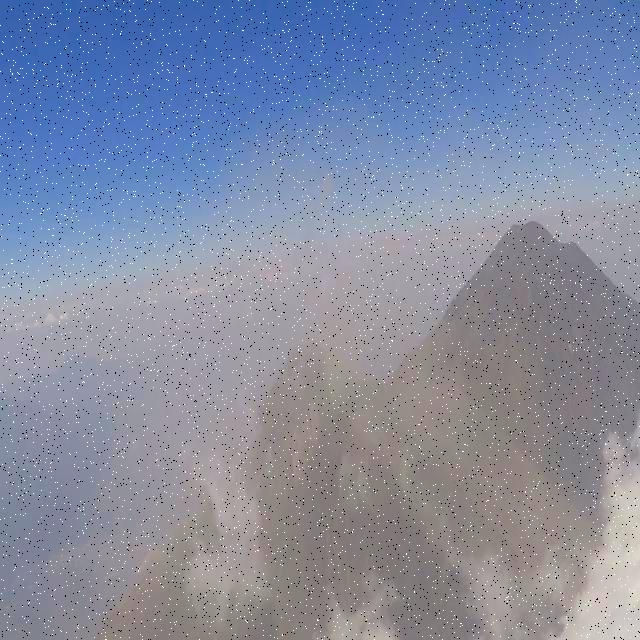Summit: (232, 336, 381, 494)
